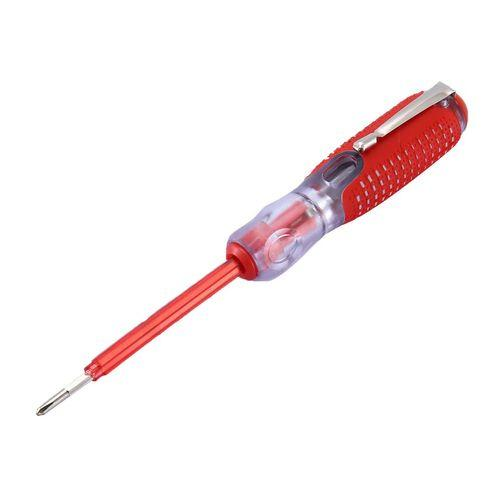Screwdriver: (23, 73, 474, 437)
